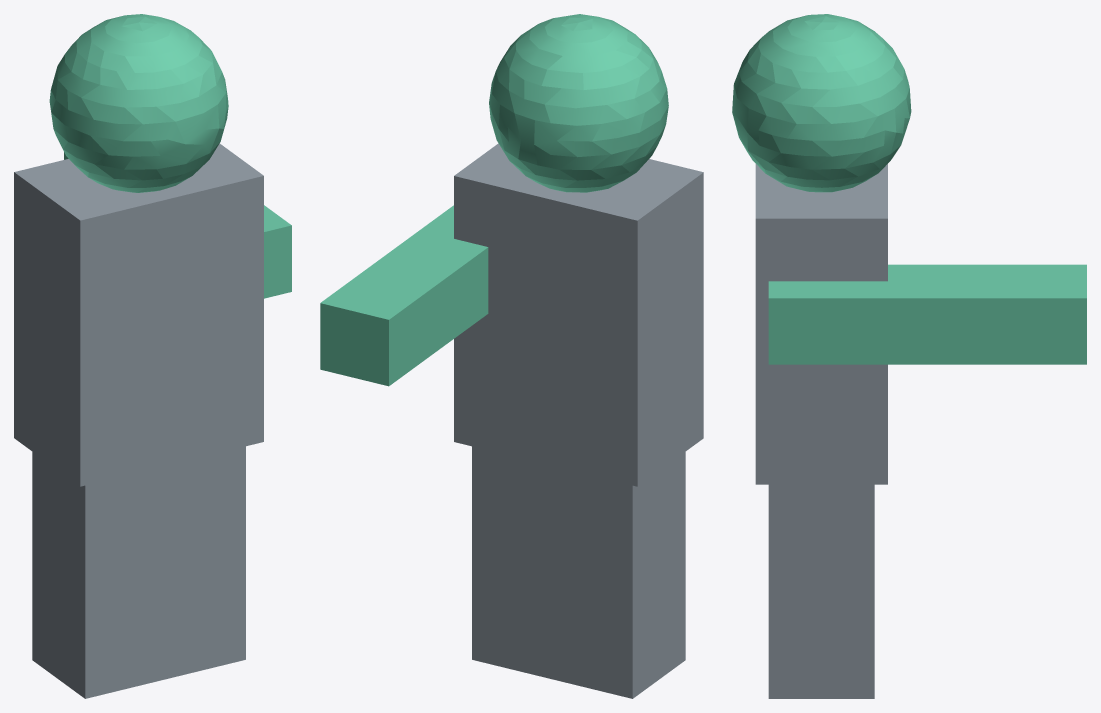
File: CO_Hero_Mei_LOD1.glb
3 renders of one model, left to right at view 1: azimuth 30°, elevation 25°; view 2: azimuth 150°, elevation 25°; view 3: azimuth 270°, elevation 25°, orthographic.
Visible parts, largest first — view 1: Head; view 2: Head; view 3: Head.
Part boxes in pixels (x1,y1,x2,y2): Head: (14,14,291,698); Head: (320,14,703,698); Head: (732,14,1086,698).
Bounding box in the file's own units: 61.75 × 172 × 86.99.
